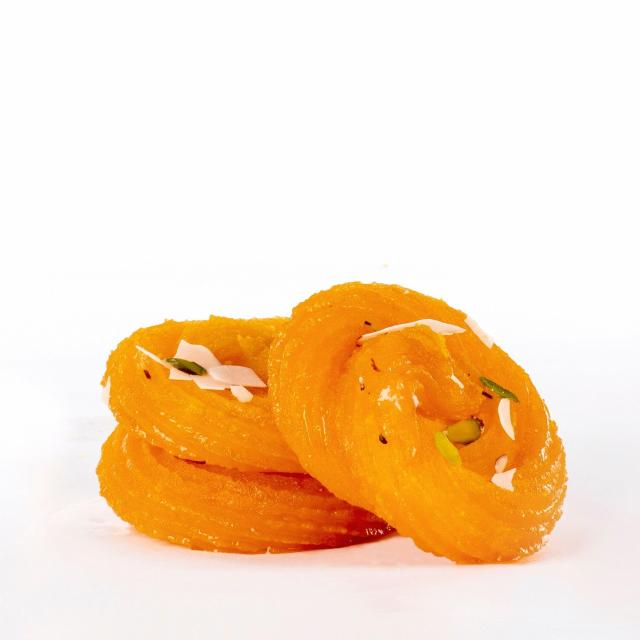jalebi: (104, 282, 564, 553)
